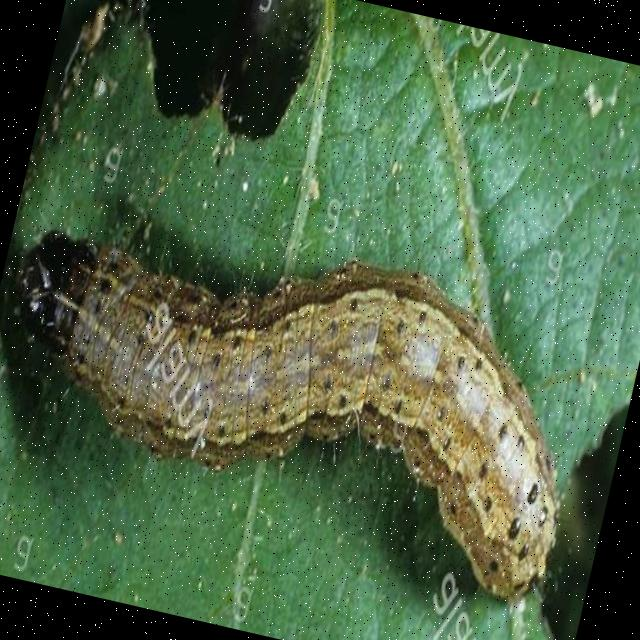worm: (1, 182, 610, 612)
